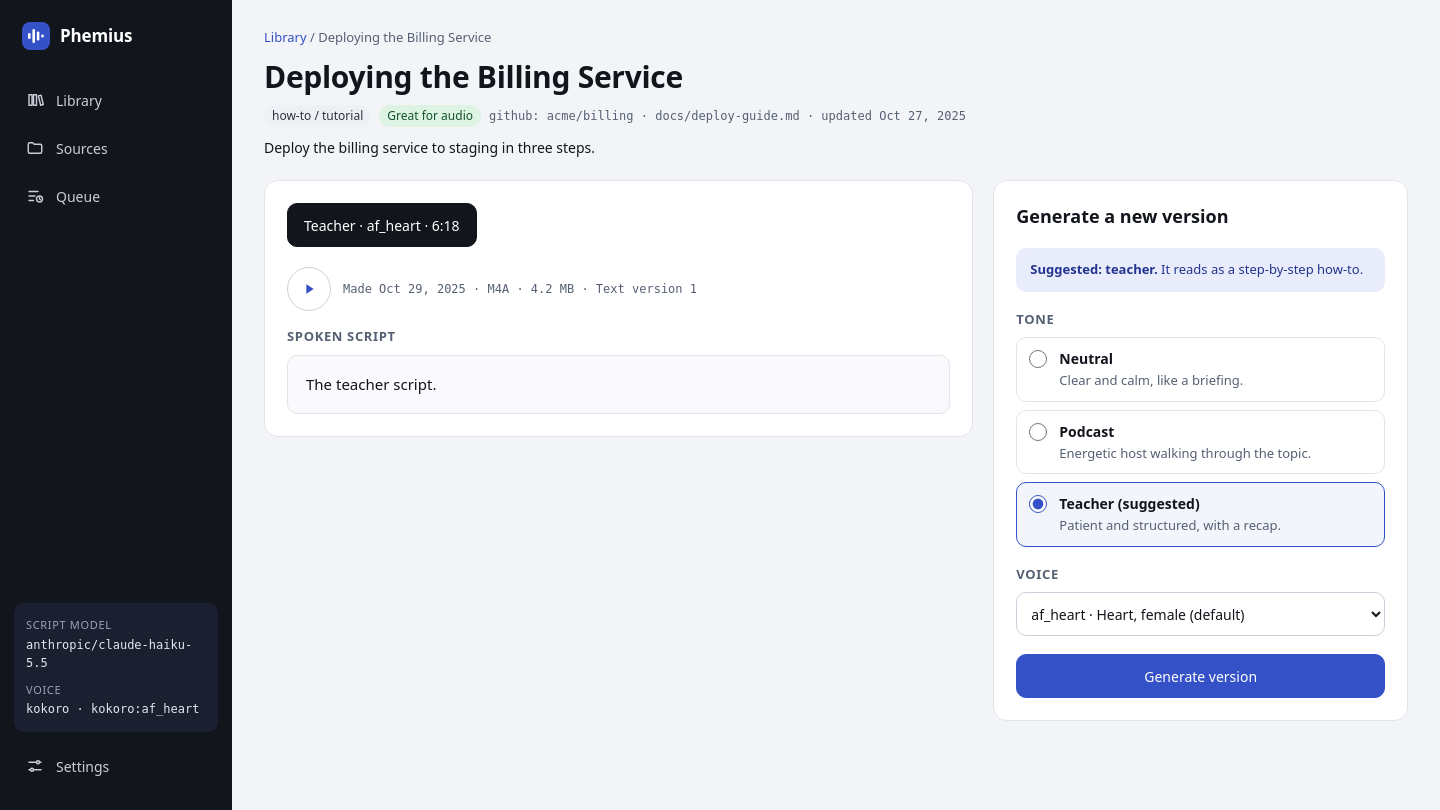
Scenario: generating a version › adds a version in the list when generating audio and selects it
Expected: the heading "Deploying the Billing Service" is shown, top-left (264, 56), bottom-right (683, 96)
Expected: the radio button labelled "Teacher (suggested) Patient and structured, with a recap." is shown, top-left (1029, 495), bottom-right (1047, 513)
Click the radio button labelled "Podcast Energetic host walking through the topic.": (1038, 432) top-left (1029, 422), bottom-right (1047, 440)
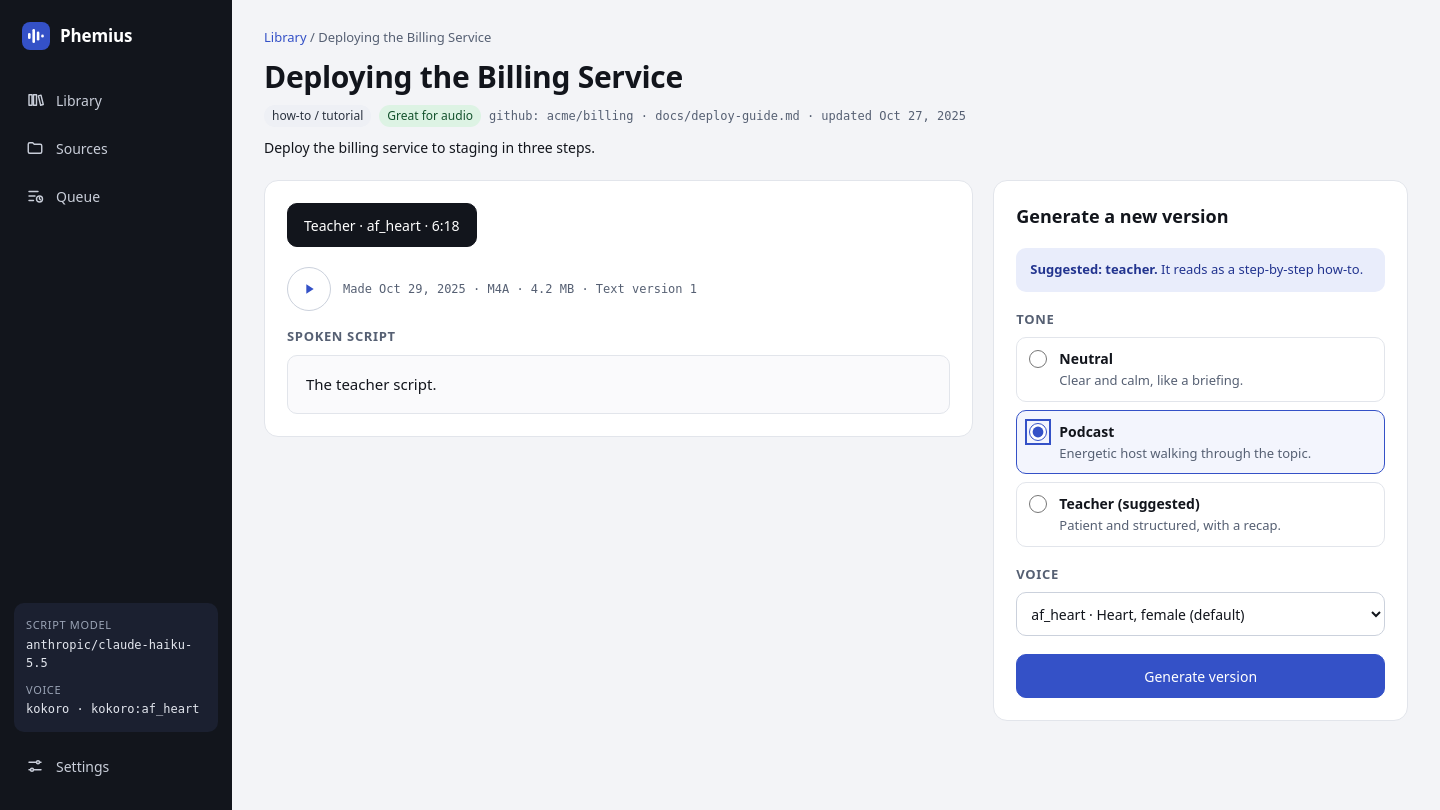
Select "bm_george · George, male" in the dropdown labelled "Voice": (1201, 614) top-left (1016, 592), bottom-right (1385, 636)
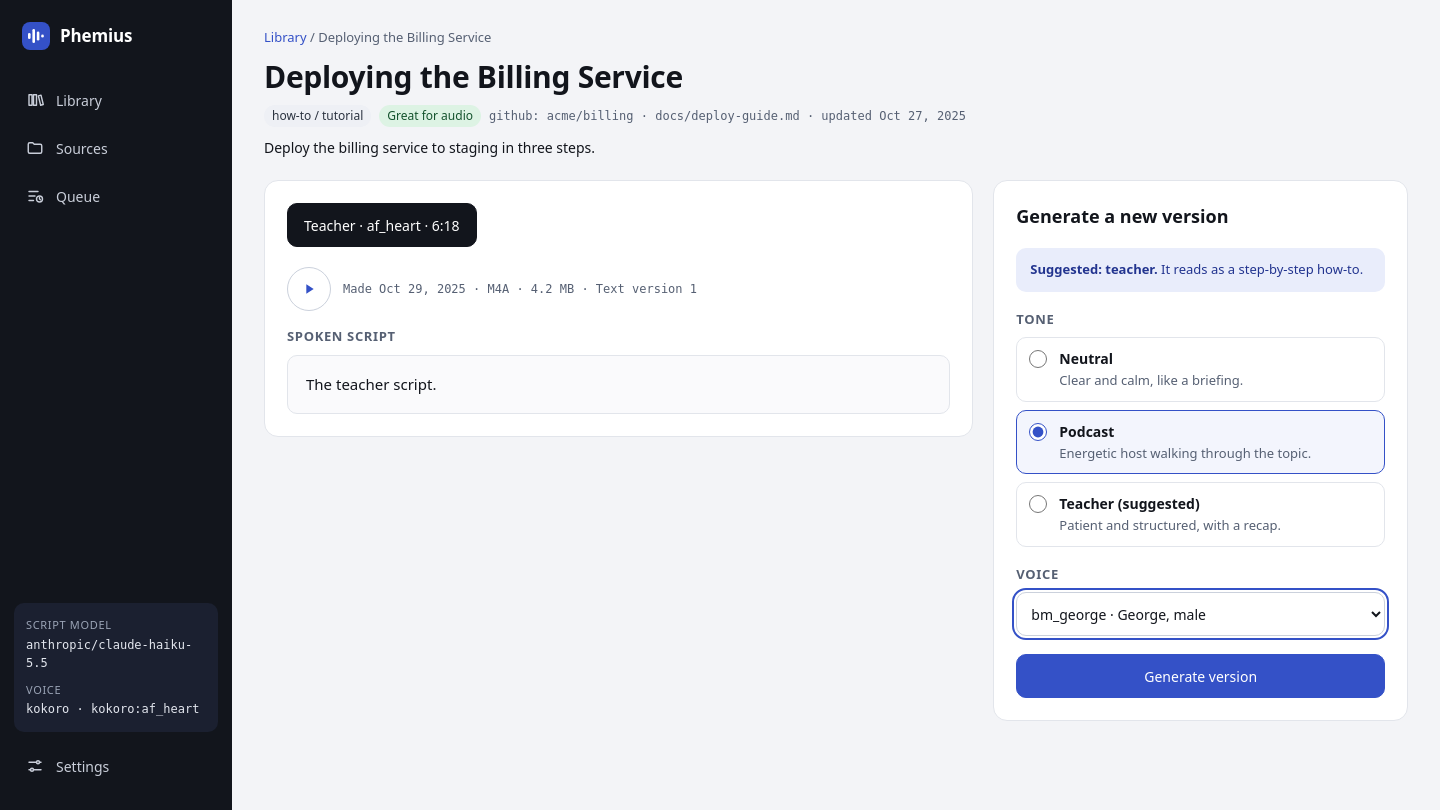
Click the button "Generate version": (1201, 676) top-left (1016, 654), bottom-right (1385, 698)
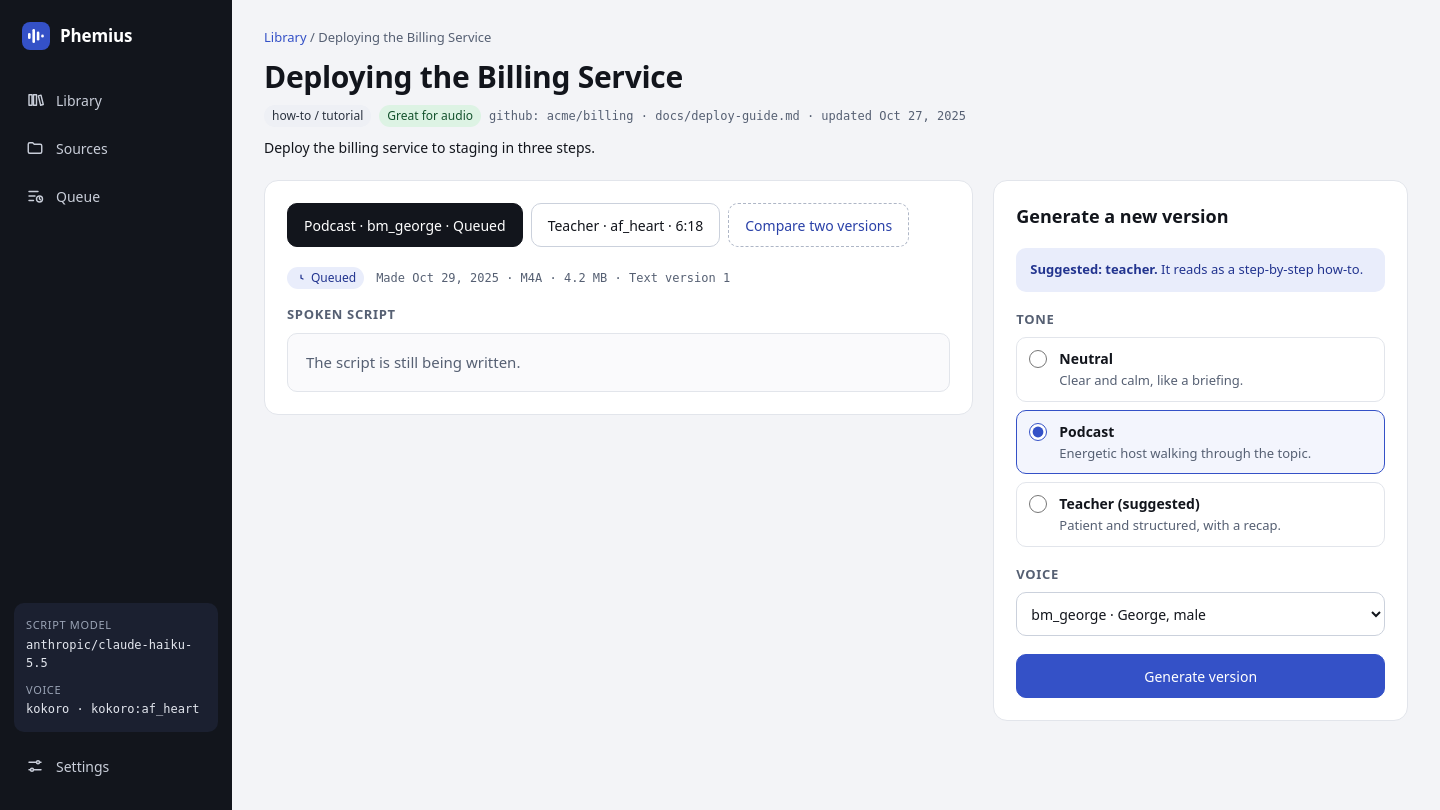
Result: the button "Podcast · bm_george · Queued" is shown at top-left (287, 203), bottom-right (523, 247)
Result: the text "The script is still being written." is shown at top-left (306, 352), bottom-right (520, 372)
